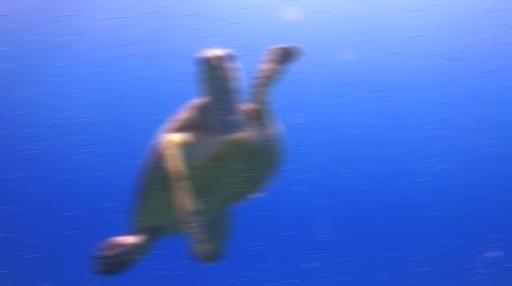Fish: (94, 45, 299, 275)
